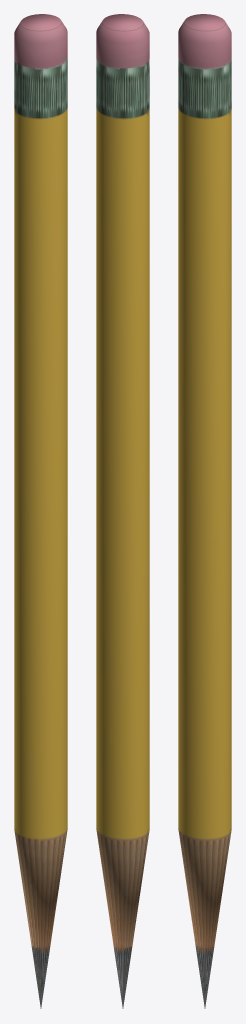
Rendered from Pencil.obj.
3 renders of one model, left to right at view 1: azimuth 30°, elevation 25°; view 2: azimuth 150°, elevation 25°; view 3: azimuth 330°, elevation 25°, orthographic.
Visible parts, largest first — view 1: Pencil.obj; view 2: Pencil.obj; view 3: Pencil.obj.
Part boxes in pixels (x1,y1,x2,y2): Pencil.obj: (14,14,67,1008); Pencil.obj: (96,14,149,1008); Pencil.obj: (178,14,231,1008).
Bounding box in the file's own units: 0.6038 × 12.13 × 0.5634.
